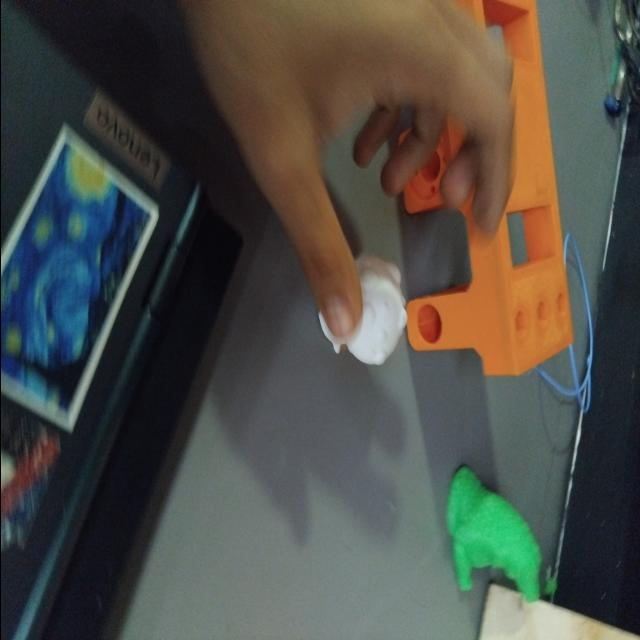Hongo: (314, 240, 408, 386)
